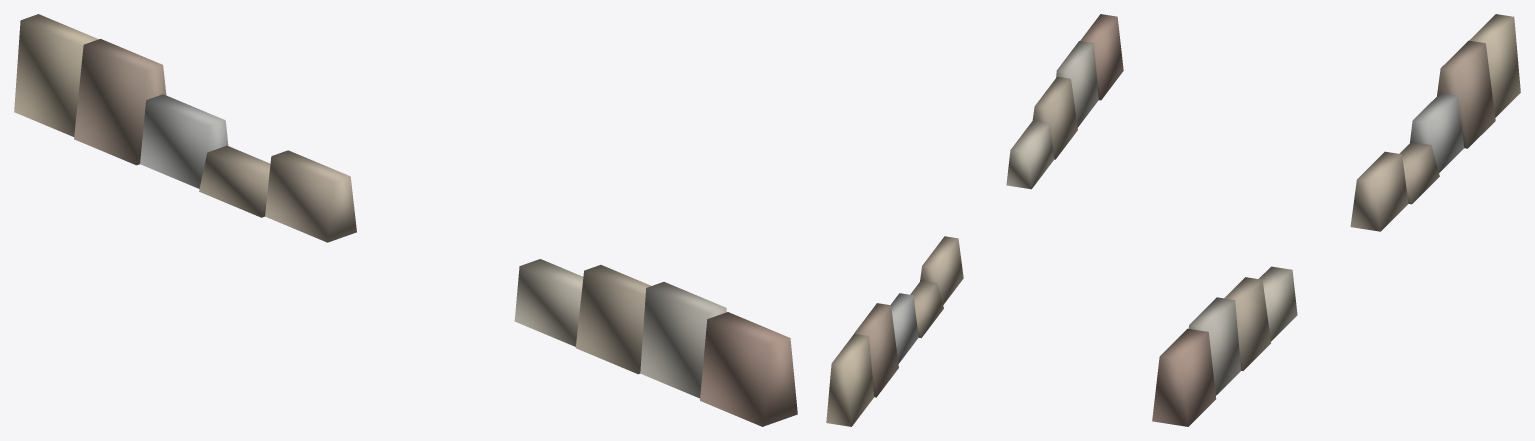
The model's file is farm_-10_-8_collision.glb.
3 views of the same model, side by side, from view 1: azimuth 30°, elevation 25°; view 2: azimuth 150°, elevation 25°; view 3: azimuth 330°, elevation 25° (orthographic). The views are drawn at different scales.
Visible parts, largest first — view 1: geometry_0; view 2: geometry_0; view 3: geometry_0.
Part boxes in pixels (x1,y1,x2,y2): geometry_0: [14, 14, 797, 426]; geometry_0: [826, 14, 1123, 426]; geometry_0: [1152, 14, 1520, 426].
Size of the model in its own units: 3.71 by 2.4 by 17.57.
